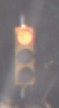Red: (14, 26, 33, 84)
